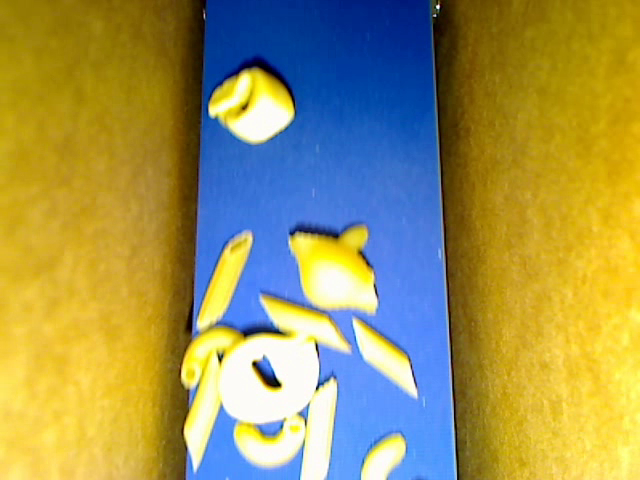elbow: (231, 414, 306, 470), (180, 324, 243, 389), (337, 222, 374, 283), (361, 432, 407, 479)
penne: (195, 229, 253, 332), (257, 292, 351, 353), (351, 314, 417, 398), (182, 348, 223, 474), (298, 377, 336, 479)
shell: (287, 231, 378, 313)
tortellini: (217, 331, 319, 423), (207, 66, 294, 144)
